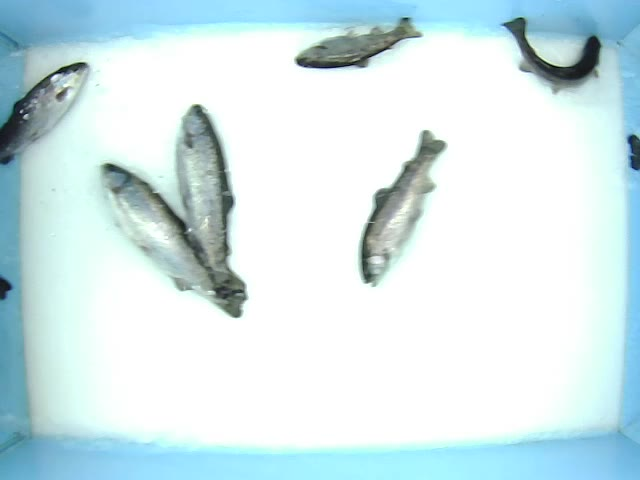fish: (97, 160, 245, 320), (357, 128, 457, 288), (173, 100, 247, 297), (1, 58, 93, 167), (501, 13, 604, 97), (291, 12, 424, 71)
